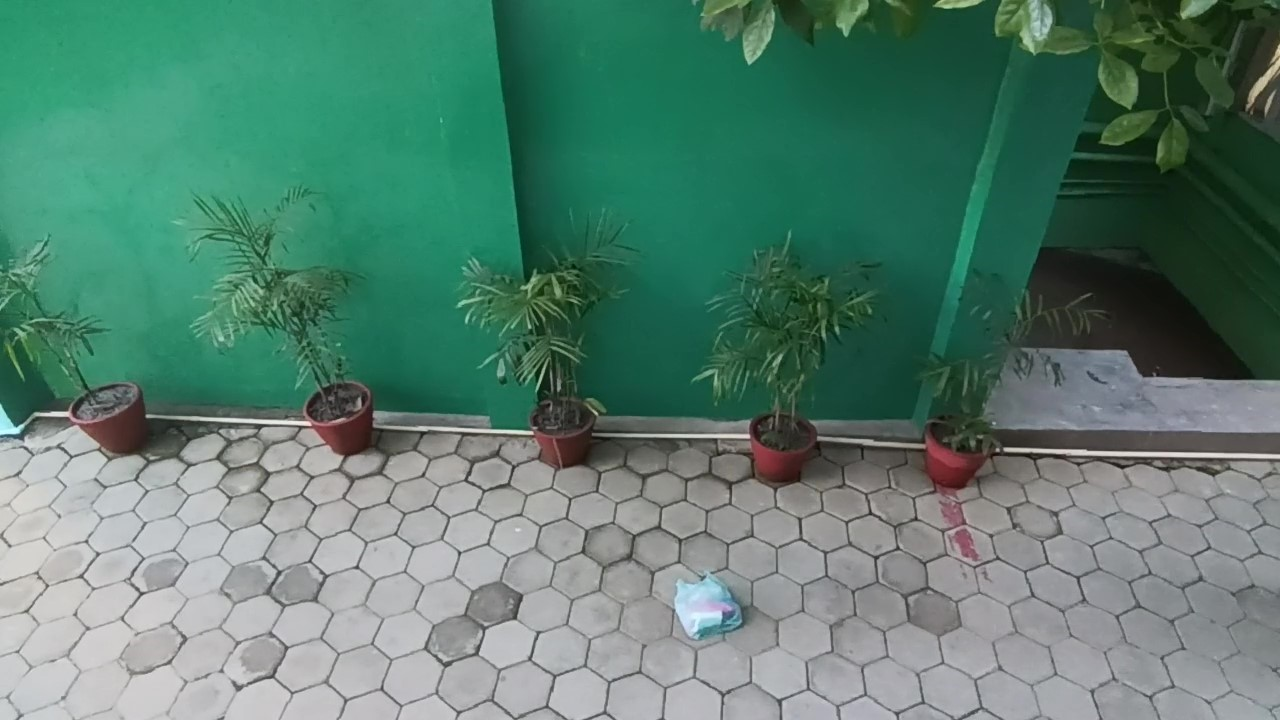thrownwaste: (652, 558, 774, 655)
